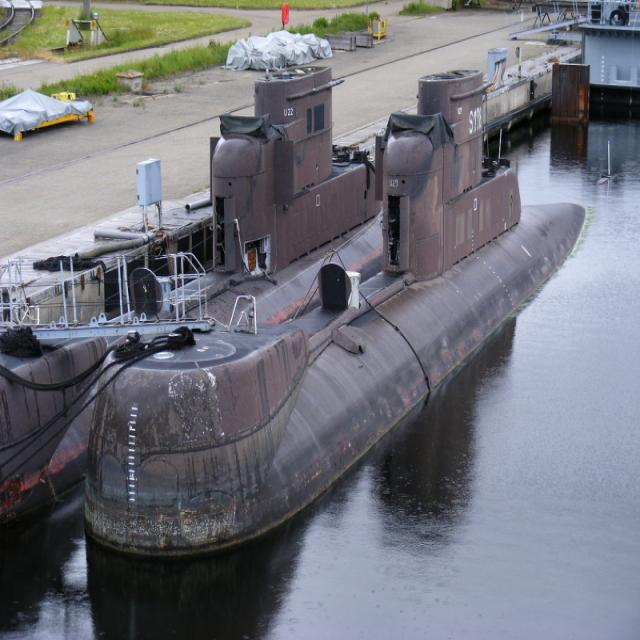submarine: (81, 67, 586, 559), (2, 68, 379, 530)
